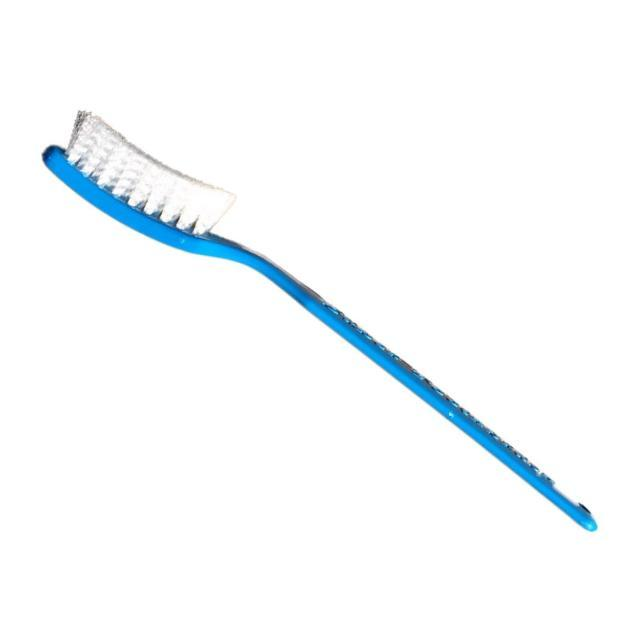toothbrush: (26, 85, 640, 555)
